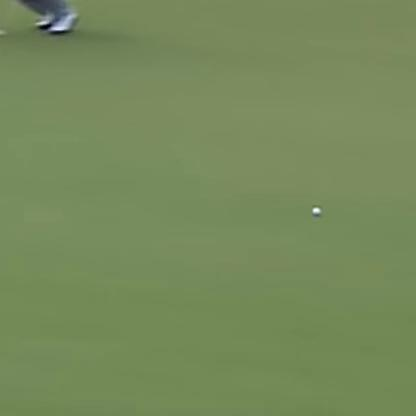golfball: (308, 205, 321, 215)
